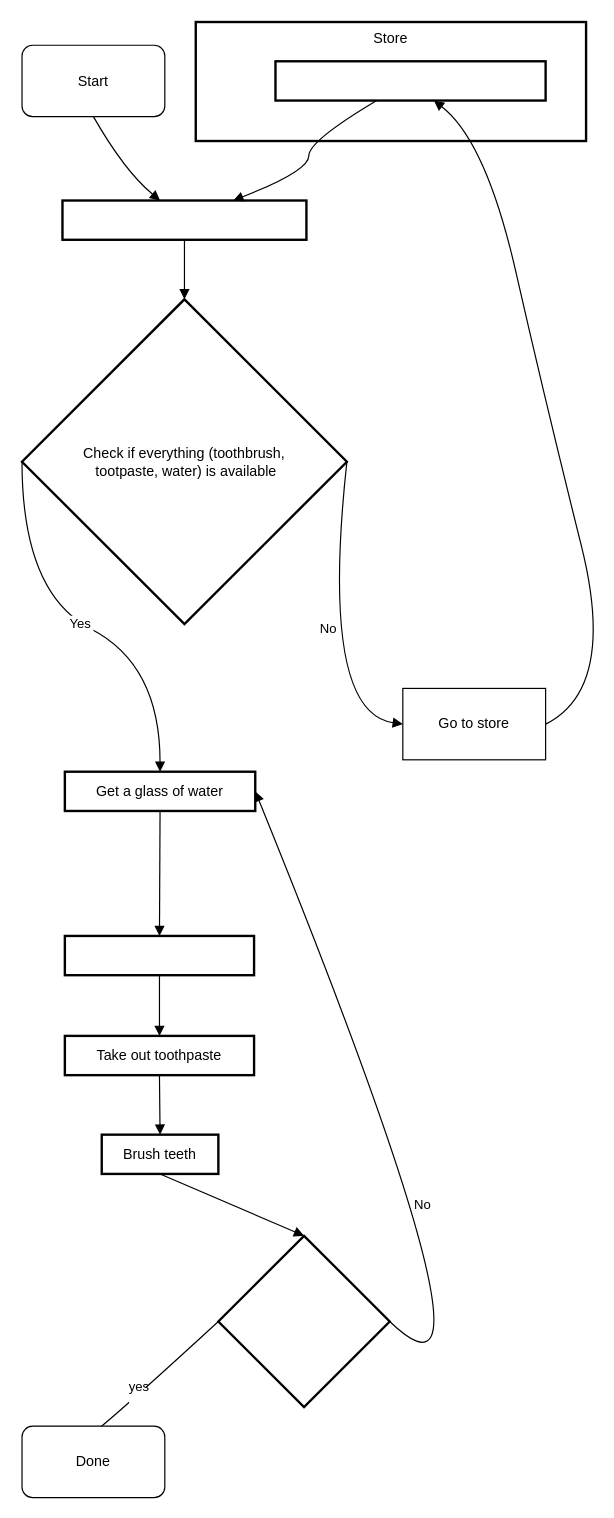
This 614x1518 diagram has some shape labels left out. Each missing label, with the box of its shape:
feeling fresh: (217, 1234, 390, 1408)
Go buy the missing item: (274, 60, 546, 101)
Prepare for brushing teeth: (61, 199, 307, 240)
Take out toothbrush: (63, 934, 255, 976)
